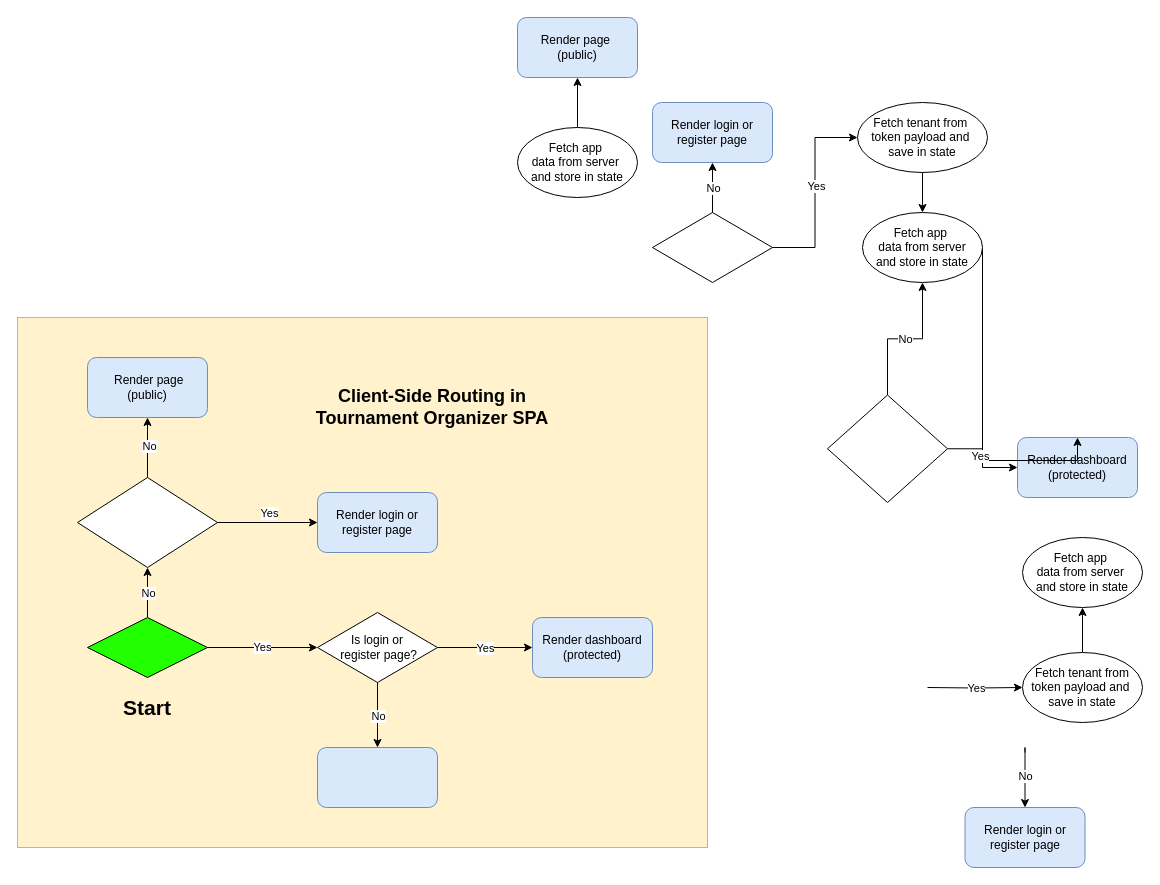
Image size: 1160x885. Some labels were removed from this diagram. Here are the shapes that lost their labels. From the top down, the box of each, then its label:
(652, 212, 772, 282): Browser has valid acces token
(826, 394, 948, 502): Does app have data in state?
(76, 476, 218, 568): Is protected page or login/ register?
(86, 616, 208, 678): Is user logged in?
(316, 746, 438, 808): Render page
